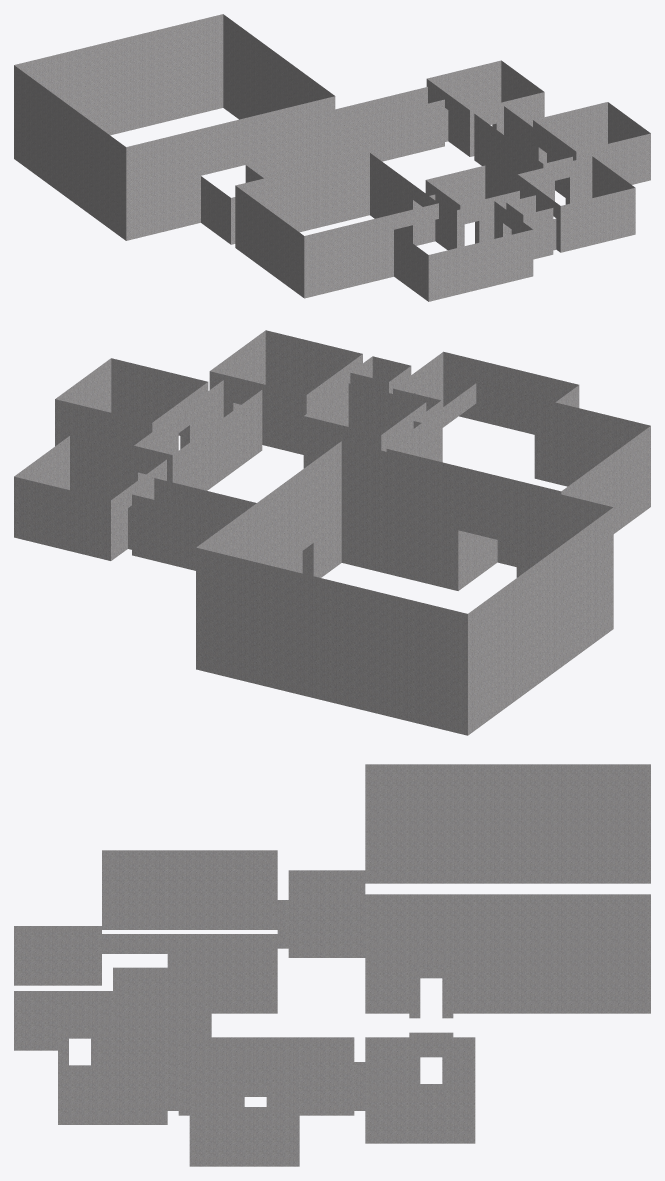
The model's file is chapel_walls.fbx.
3 views of the same model, one above another, from view 1: azimuth 30°, elevation 25°; view 2: azimuth 150°, elevation 25°; view 3: azimuth 270°, elevation 25° (orthographic). The views are drawn at different scales.
Parts seen in each view (by area): view 1: 1house.002; view 2: 1house.002; view 3: 1house.002.
Boxes of the visible parts, x1,y1,x2,y2 form: 1house.002: (14,14,650,301); 1house.002: (14,330,650,735); 1house.002: (14,764,650,1166).
Bounding box in the file's own units: 3050 × 600 × 2900.
Materials: 1 (1 with a texture image).
